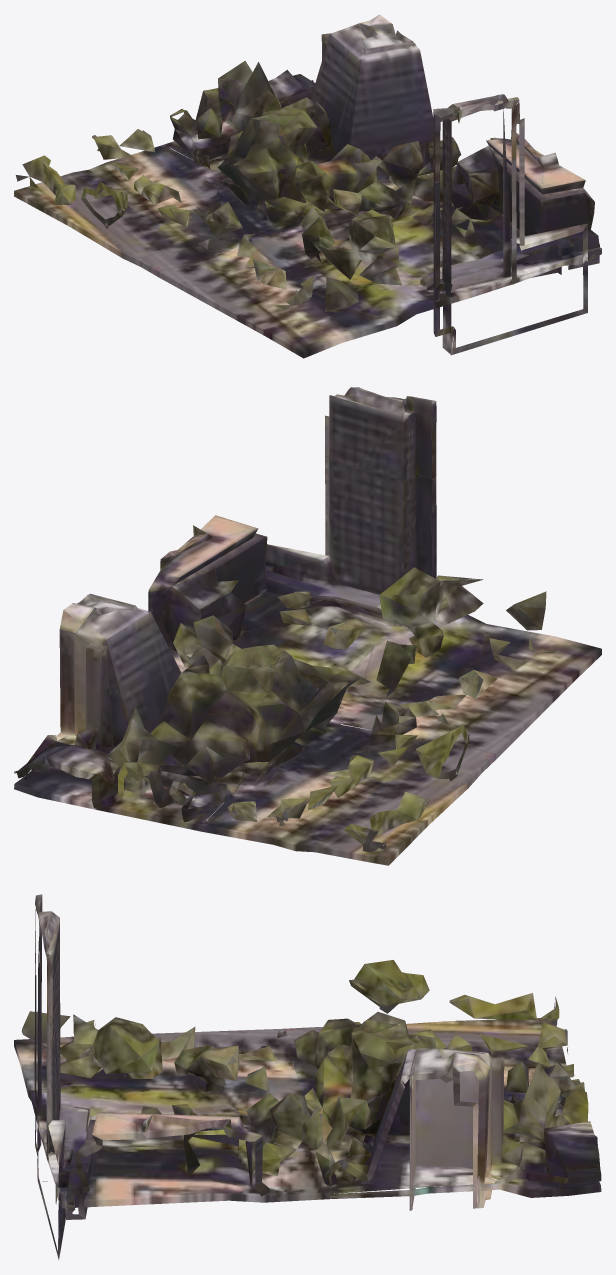
3 renders of one model, top to bottom at view 1: azimuth 30°, elevation 25°; view 2: azimuth 150°, elevation 25°; view 3: azimuth 270°, elevation 25°, orthographic. The views are drawn at different scales.
Parts seen in each view (by area): view 1: Mesh_0; view 2: Mesh_0; view 3: Mesh_0.
Part boxes in pixels (bbox=[...]): Mesh_0: bbox=[14, 14, 601, 358]; Mesh_0: bbox=[14, 387, 601, 865]; Mesh_0: bbox=[14, 894, 601, 1259].
Bounding box in the file's own units: 133 × 86.2 × 165.
1 material, 1 textured.
